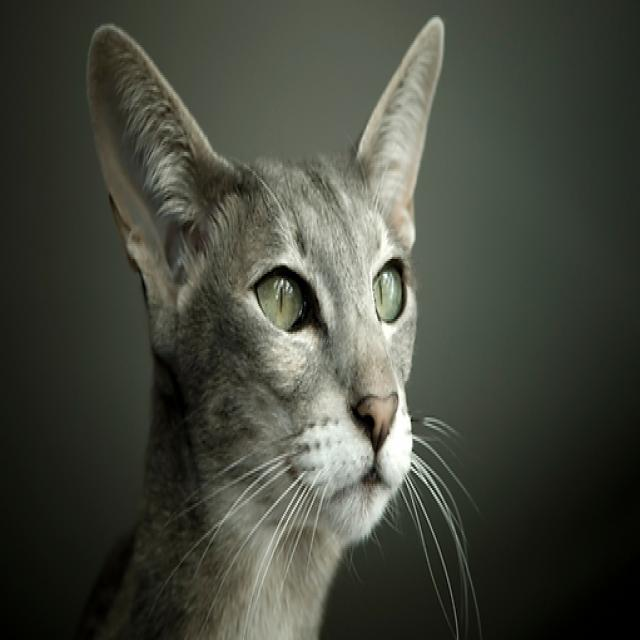Oriental: (65, 8, 449, 640)
